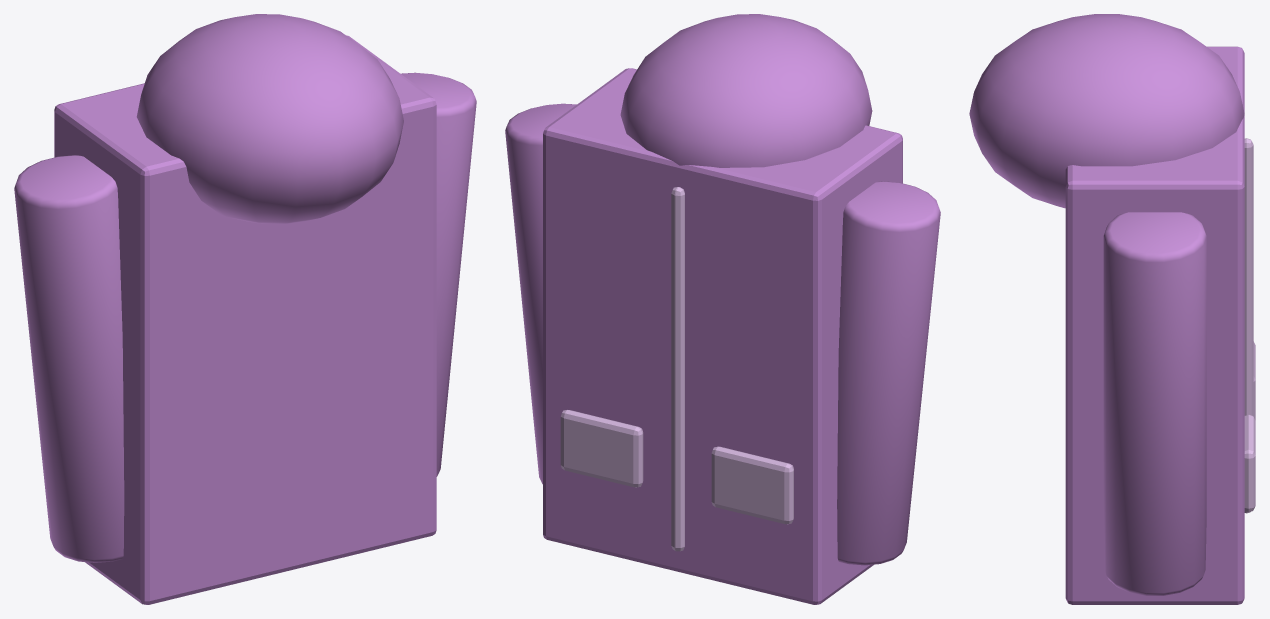
Rendered from VM-NIN-8890.glb.
The picture shows the model from 3 angles, left to right: view 1: azimuth 30°, elevation 25°; view 2: azimuth 150°, elevation 25°; view 3: azimuth 270°, elevation 25°; orthographic projection. The views are drawn at different scales.
Parts seen in each view (by area): view 1: Hoodie Colorblock Active Kids; view 2: Hoodie Colorblock Active Kids; view 3: Hoodie Colorblock Active Kids.
Boxes of the visible parts, bbox=[...] form: Hoodie Colorblock Active Kids: bbox=[14, 14, 476, 604]; Hoodie Colorblock Active Kids: bbox=[505, 14, 940, 604]; Hoodie Colorblock Active Kids: bbox=[969, 14, 1255, 604].
Size of the model in its own units: 0.4633 by 0.5211 by 0.2657.
